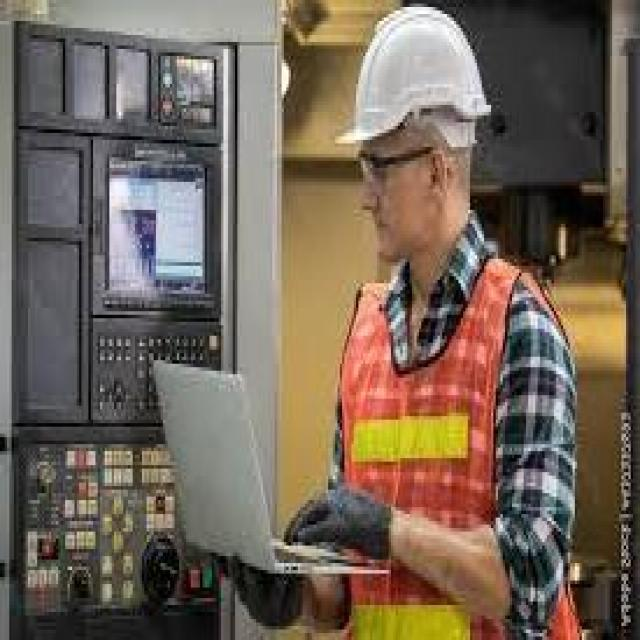reflective_jacket: (307, 252, 574, 633)
safety_helmet: (330, 0, 500, 168)
